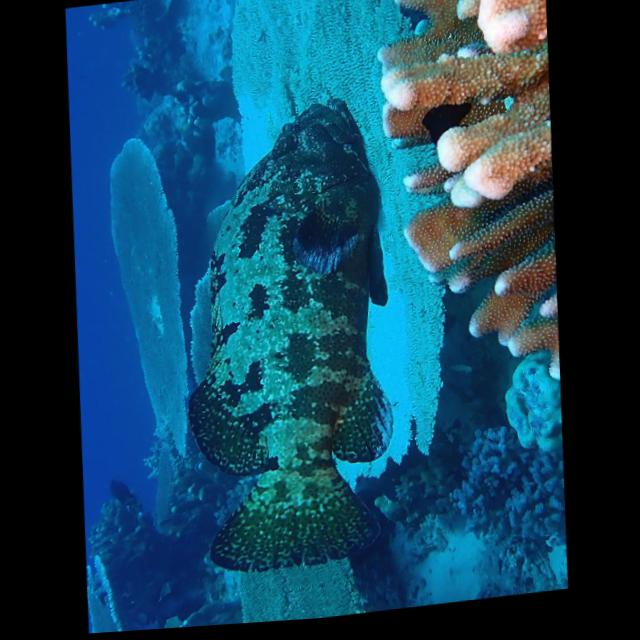Groupers: (168, 83, 402, 576)
